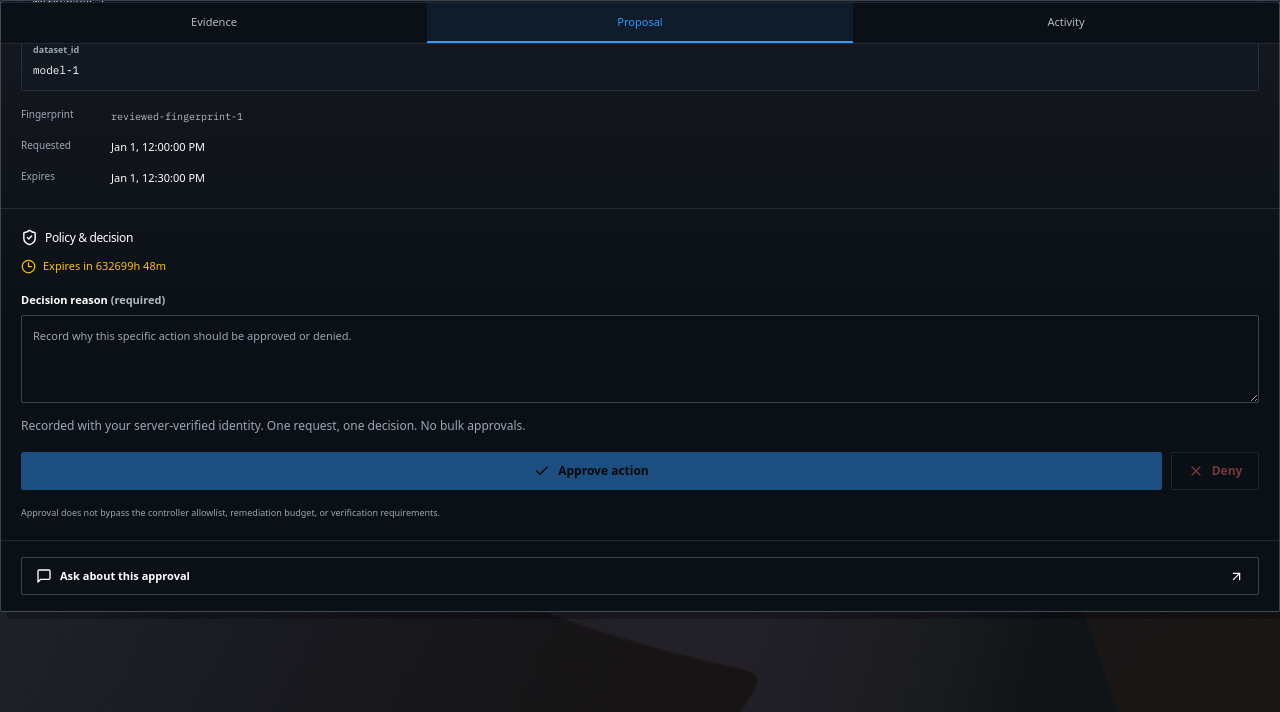
it: approval-scoped Ask › uses an approval ID without an incident and labels model answers
(page scrolled)
Click the button "Ask about this approval".
click(125, 576)  # box [21, 557, 1259, 595]
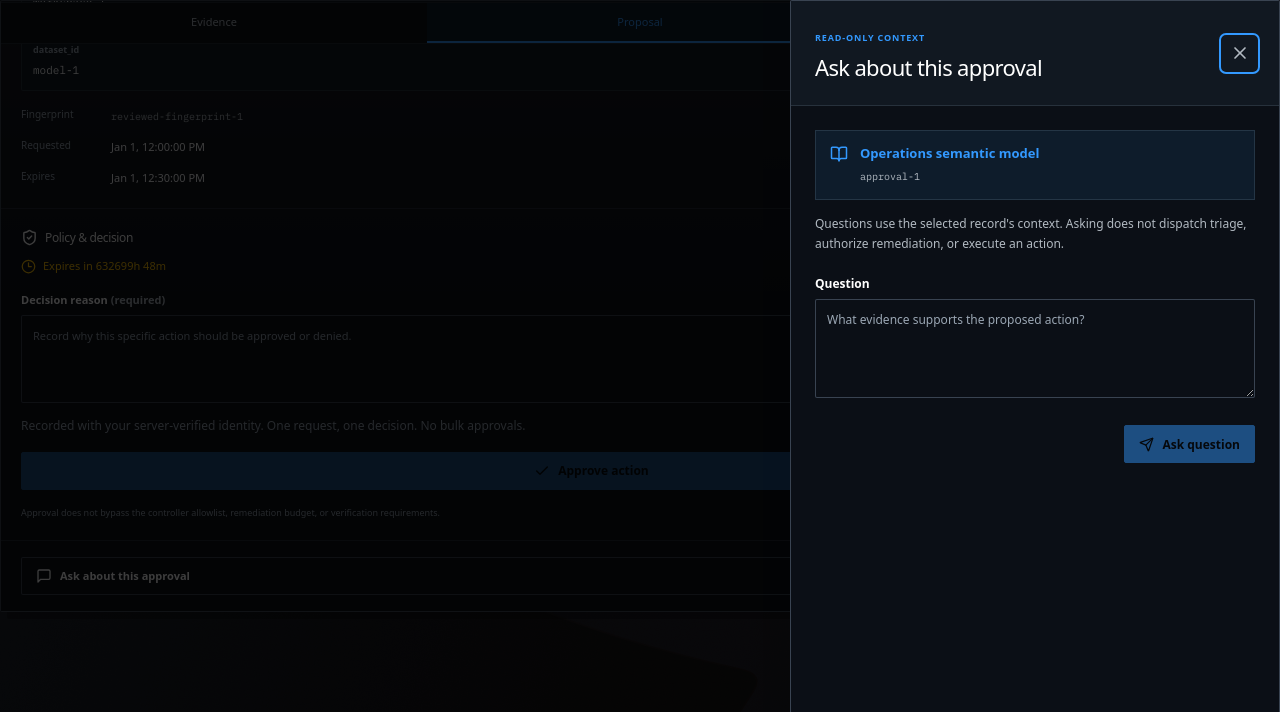
Expected: the text "Asking does not dispatch triage" is shown, [815, 215, 1246, 252]
Type "Why is approval needed?" into the text box labelled "Question".
click(1035, 349); type("Why is approval needed?")  # box [815, 299, 1255, 398]
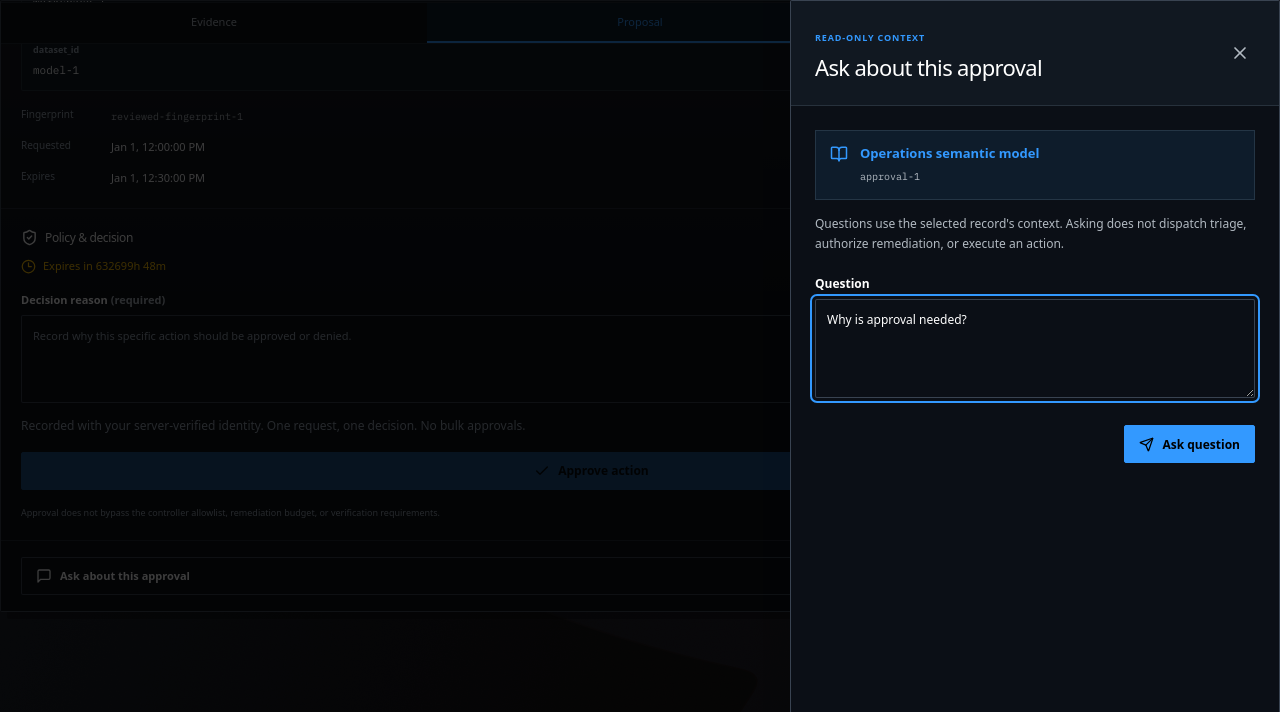
Click the button "Ask question".
click(1190, 444)  # box [1124, 425, 1255, 463]
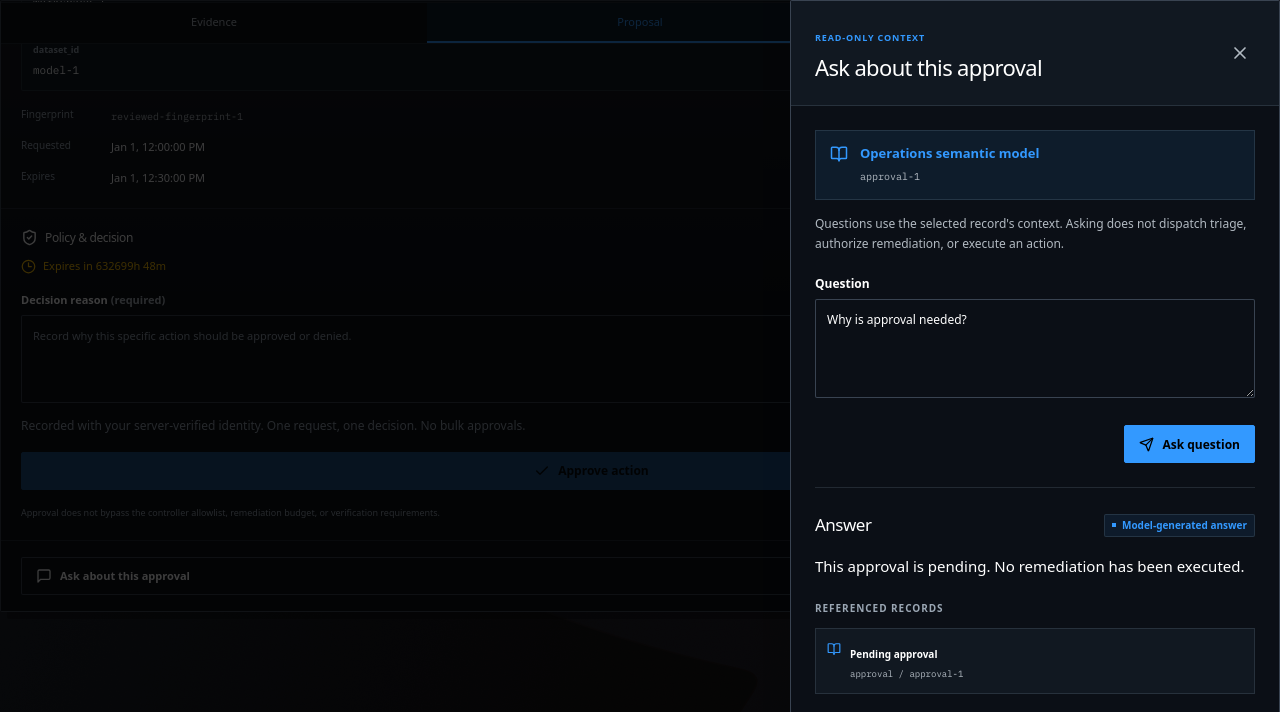
Expected: the text "Model-generated answer" is shown, [1104, 514, 1255, 537]
